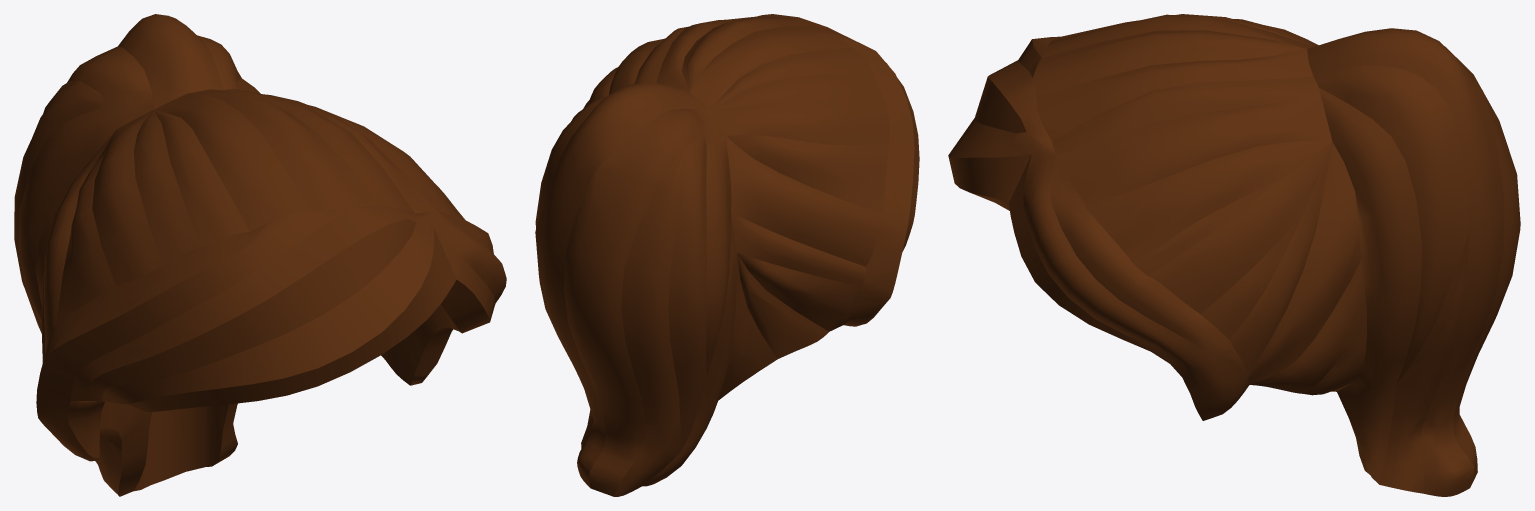
Rendered from hair.fbx.
3 views of the same model, side by side, from view 1: azimuth 30°, elevation 25°; view 2: azimuth 150°, elevation 25°; view 3: azimuth 270°, elevation 25° (orthographic). The views are drawn at different scales.
Parts seen in each view (by area): view 1: part; view 2: part; view 3: part.
Part boxes in pixels (x1,y1,x2,y2): part: (14, 14, 506, 496); part: (535, 14, 919, 496); part: (948, 14, 1520, 496).
Size of the model in its own units: 1350 by 1437 by 1640.
